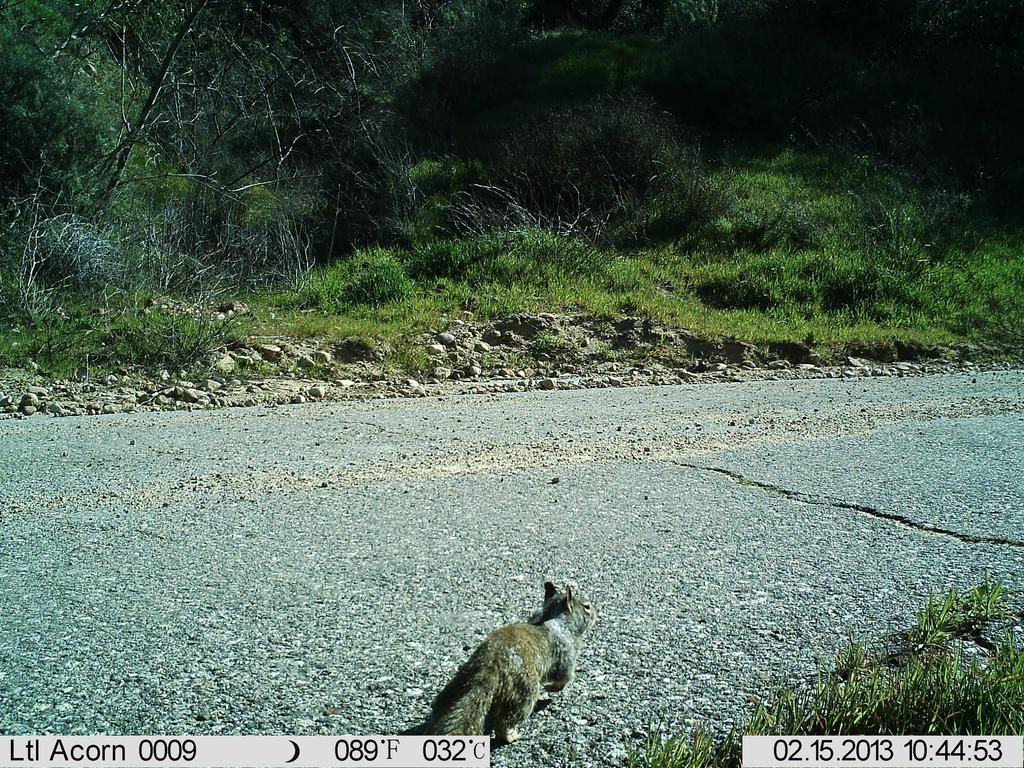squirrel: (419, 573, 602, 741)
